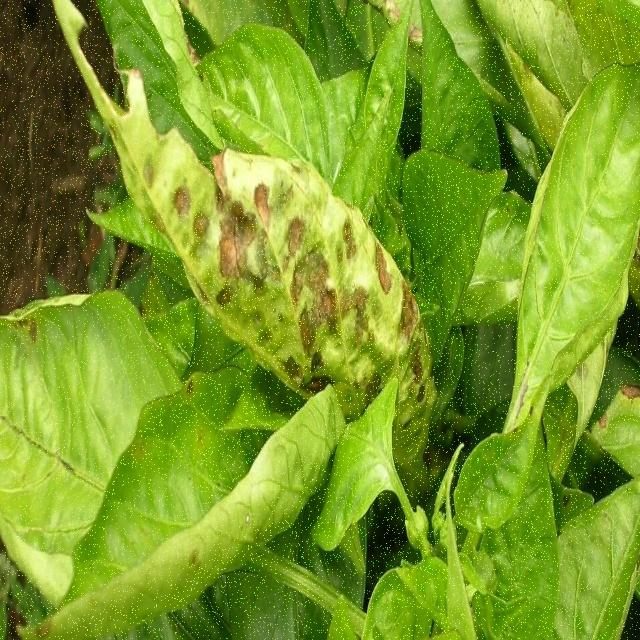leaf_spot: (118, 150, 495, 444)
